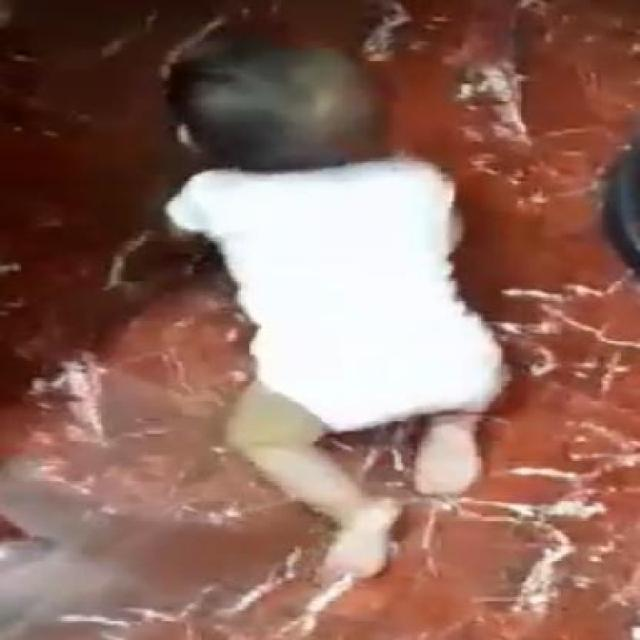baby: (156, 43, 509, 582)
